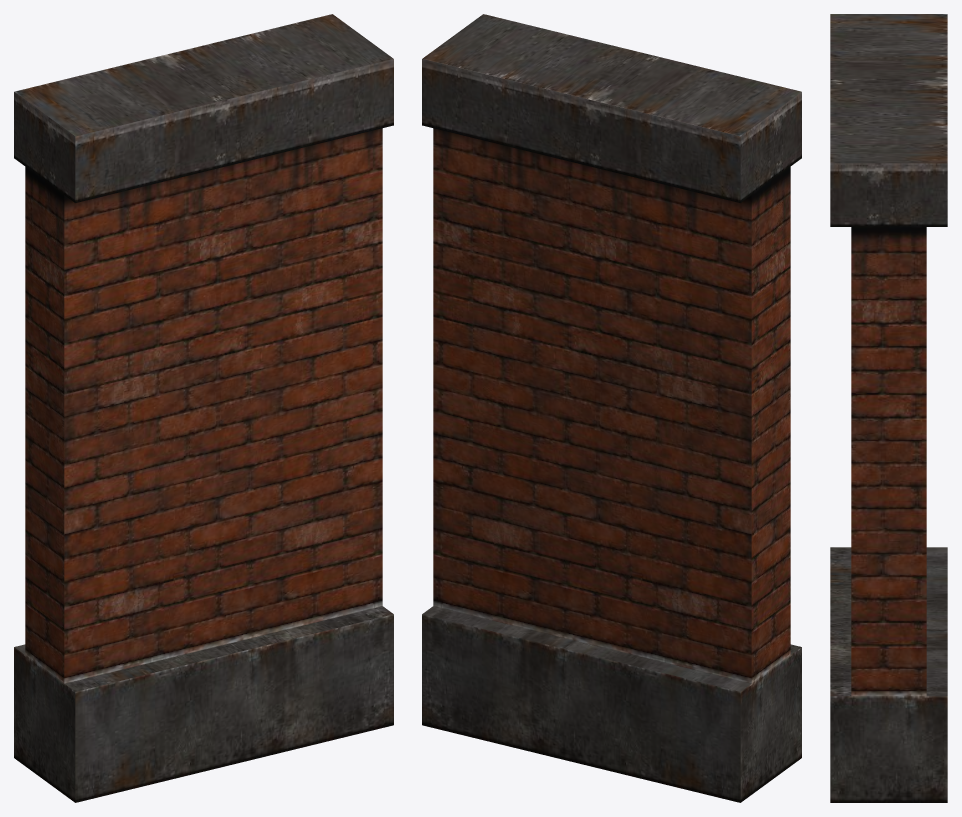
Rendered from wall_01_mobile.fbx.
3 renders of one model, left to right at view 1: azimuth 30°, elevation 25°; view 2: azimuth 150°, elevation 25°; view 3: azimuth 270°, elevation 25°, orthographic. The views are drawn at different scales.
Parts seen in each view (by area): view 1: Wall 01 | 3 x 6 x 1 m; view 2: Wall 01 | 3 x 6 x 1 m; view 3: Wall 01 | 3 x 6 x 1 m.
Part boxes in pixels (x1=…): Wall 01 | 3 x 6 x 1 m: x1=14, y1=14, x2=393, y2=802; Wall 01 | 3 x 6 x 1 m: x1=422, y1=14, x2=801, y2=802; Wall 01 | 3 x 6 x 1 m: x1=830, y1=14, x2=947, y2=802.
Size of the model in its own units: 300 by 600 by 100.
1 material, 1 textured.
